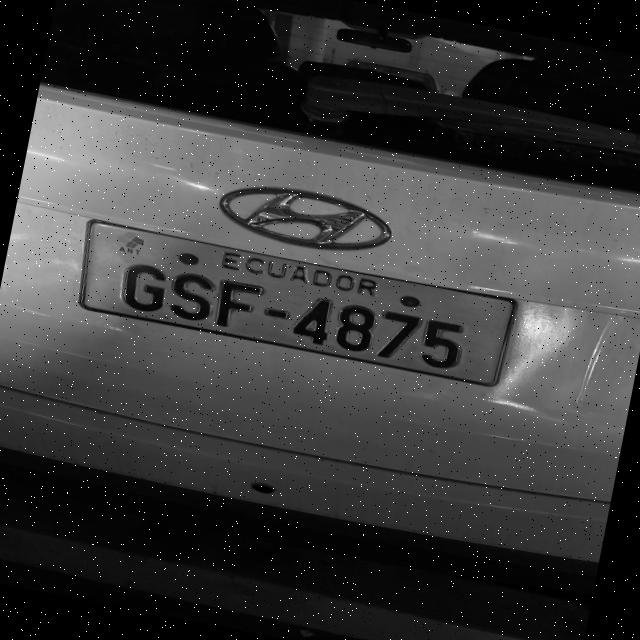Placa: (81, 222, 514, 384)
